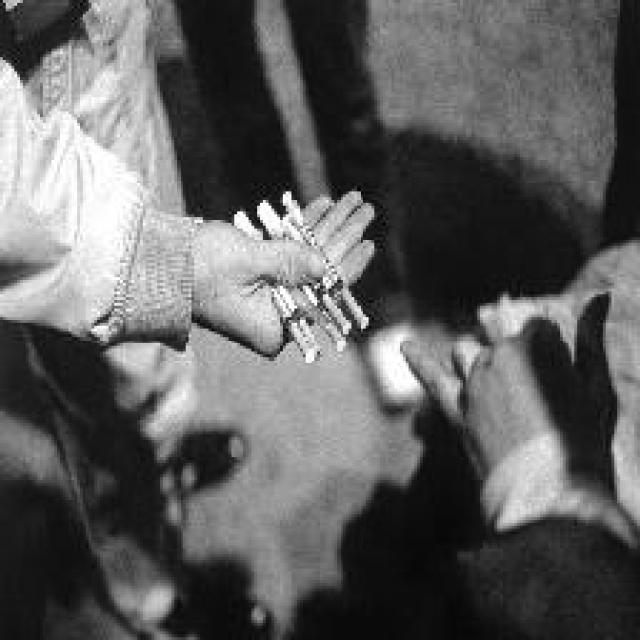syringe: (231, 200, 379, 396)
